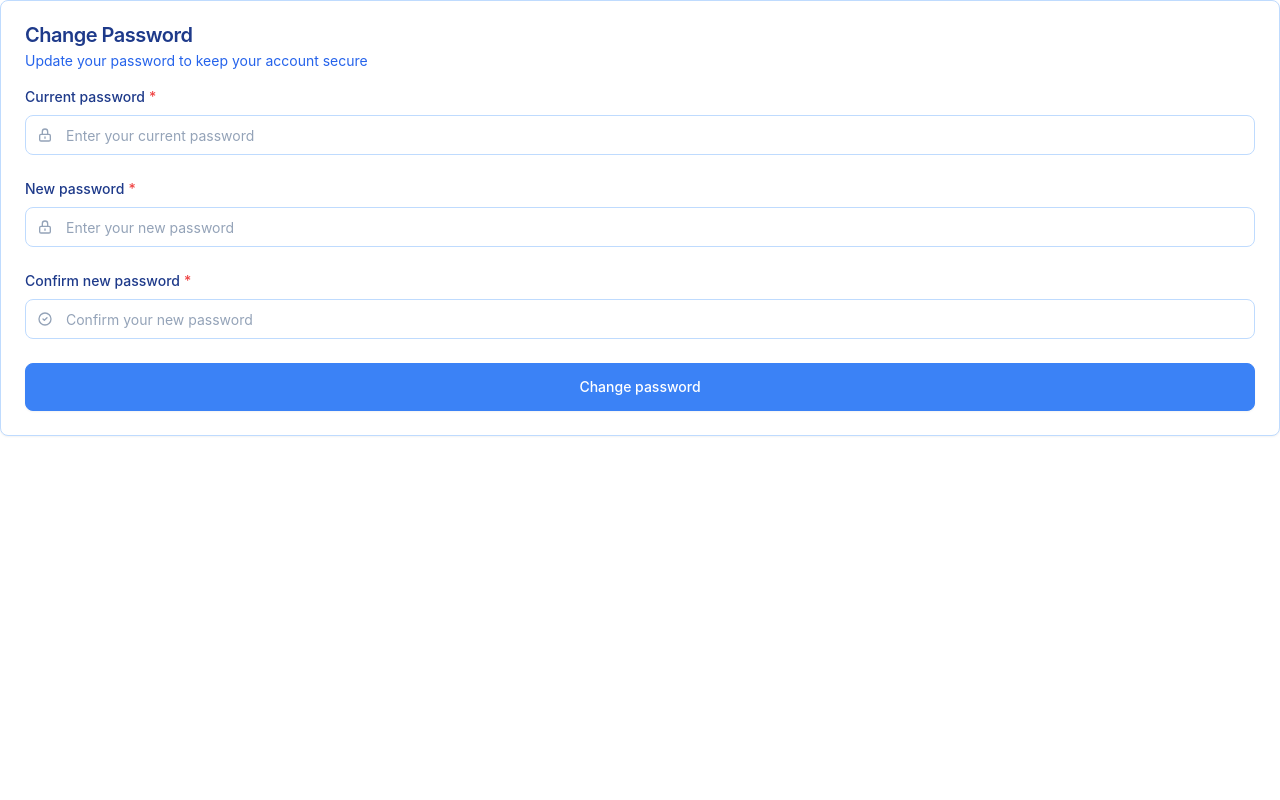
Test: ChangePasswordForm › Form Validation › should show error for empty confirm password
The width and height of the screenshot is (1280, 800).
Type "oldpassword" into the password field labelled "Current password*" at [640, 135], box x1=25 y1=115 x2=1255 y2=155
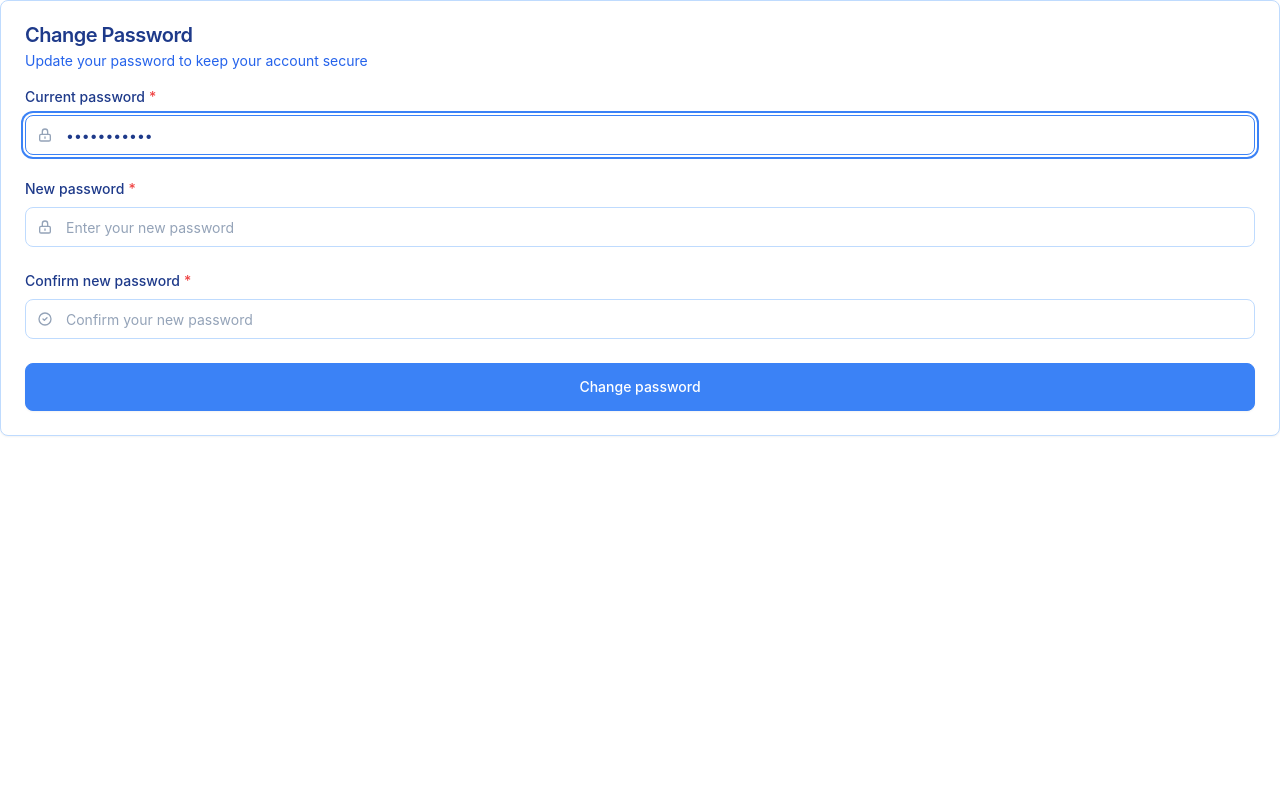
Type "ValidPass123!" into the password field labelled "New password*" at [640, 227], box x1=25 y1=207 x2=1255 y2=247
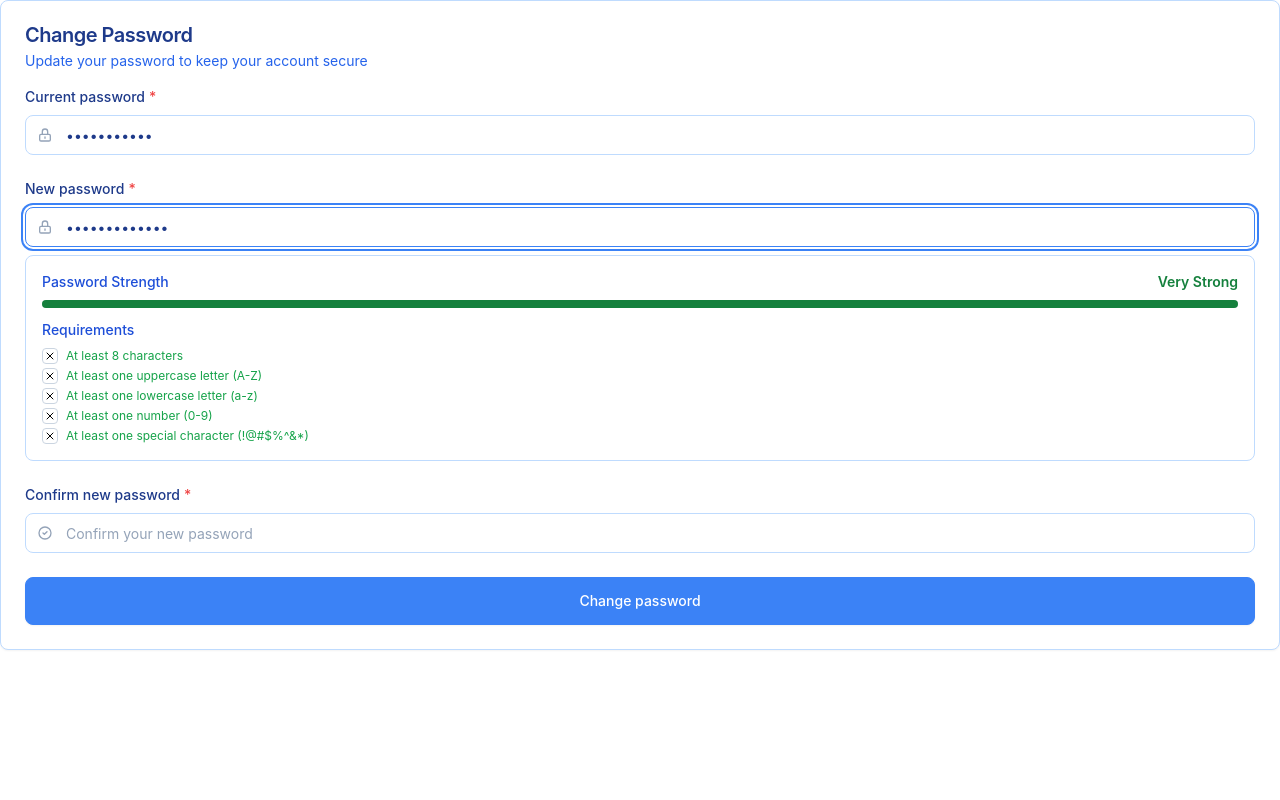
Submit the form
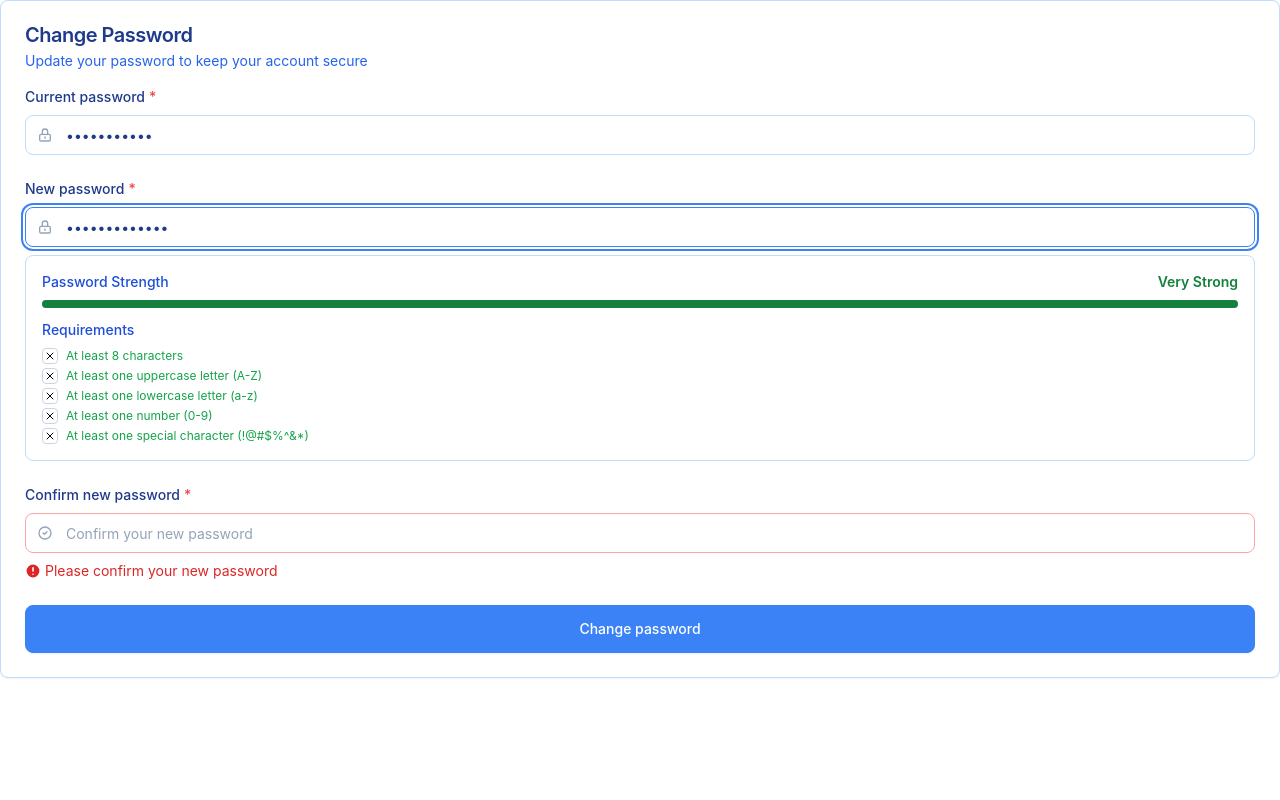
Result: the text "Please confirm your new password" is shown at x1=45 y1=561 x2=278 y2=581
